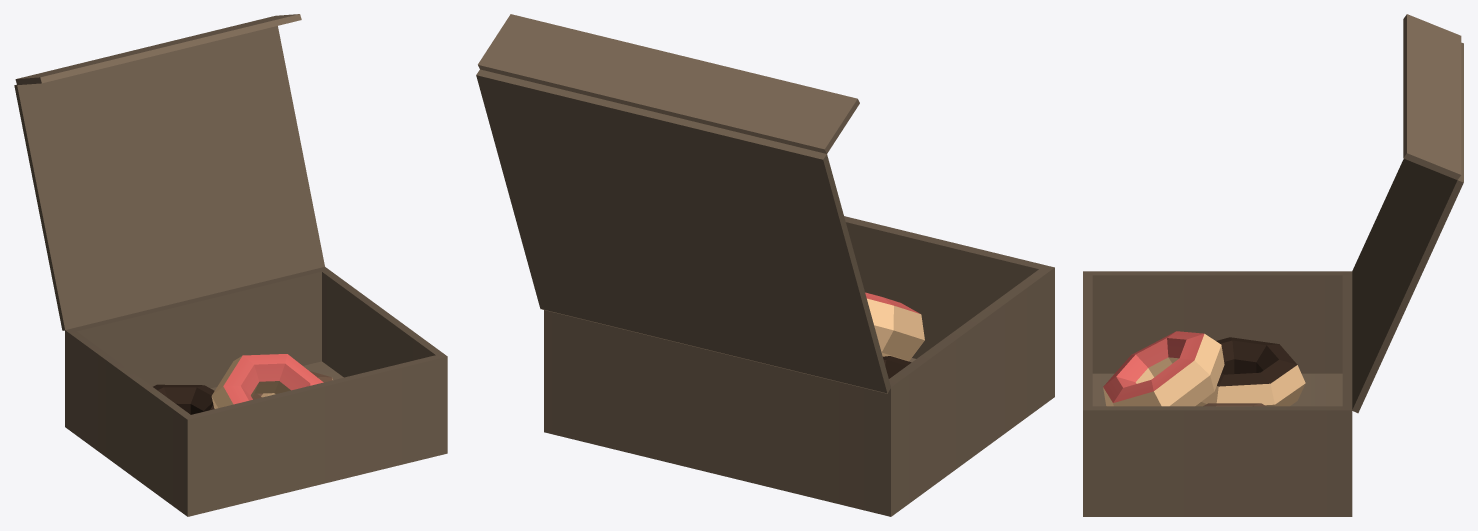
Rendered from SM_Donuts.fbx.
3 renders of one model, left to right at view 1: azimuth 30°, elevation 25°; view 2: azimuth 150°, elevation 25°; view 3: azimuth 270°, elevation 25°, orthographic. The views are drawn at different scales.
Parts seen in each view (by area): view 1: tapa, donuts, donuts.003, donuts.001; view 2: tapa, donuts, donuts.003; view 3: donuts, tapa, donuts.003, donuts.001.
Boxes of the visible parts, x1,y1,x2,y2 form: tapa: [14, 14, 324, 330]; donuts: [65, 267, 447, 516]; donuts.003: [211, 354, 323, 408]; donuts.001: [153, 384, 214, 414]; tapa: [476, 14, 890, 393]; donuts: [540, 216, 1054, 516]; donuts.003: [865, 292, 924, 361]; donuts: [1083, 271, 1358, 516]; tapa: [1352, 14, 1463, 412]; donuts.003: [1103, 331, 1224, 406]; donuts.001: [1195, 337, 1305, 406].
Bounding box in the file's own units: 47.88 × 58.36 × 55.36.
